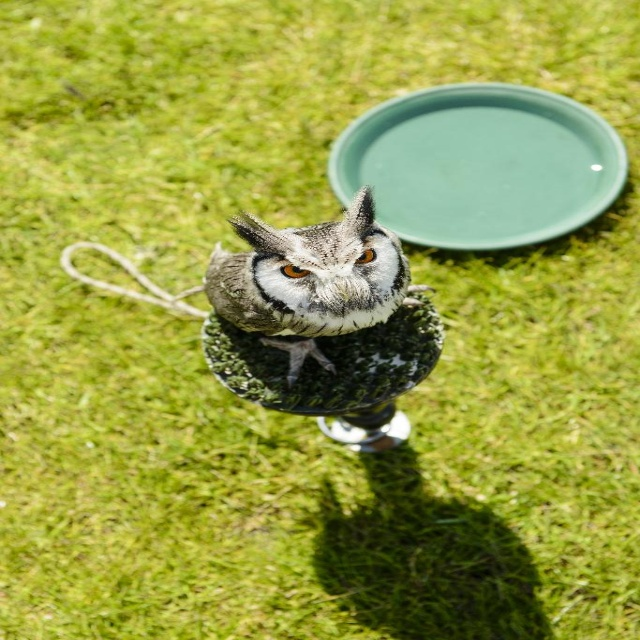Owl: (201, 188, 467, 440)
